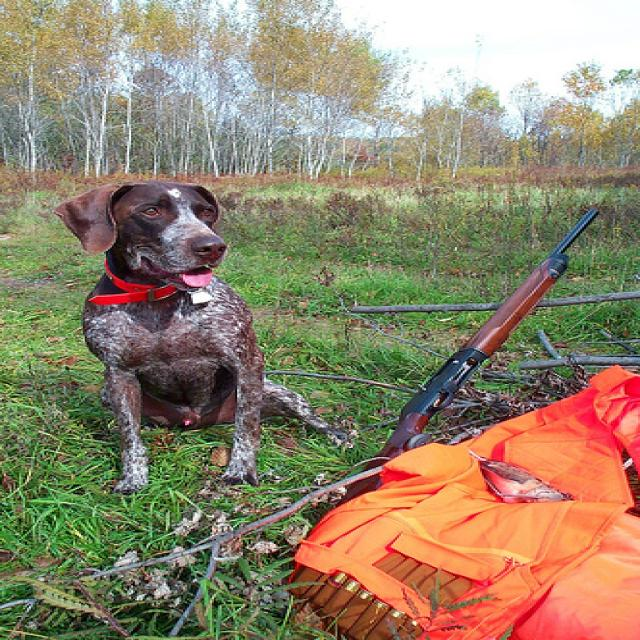dog-german_shorthaired: (52, 177, 343, 493)
